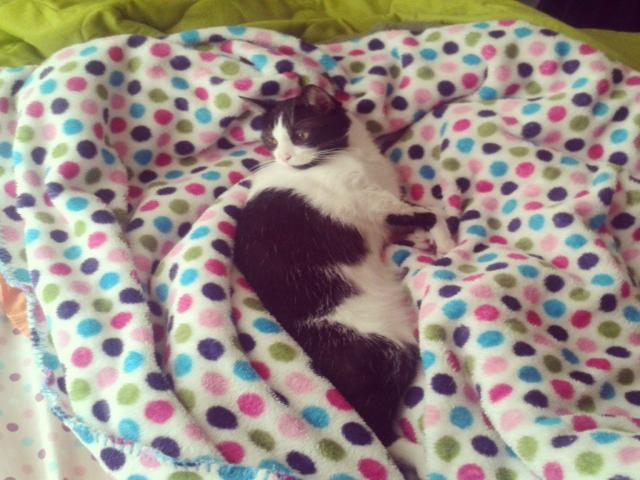Cat: (231, 82, 454, 437)
